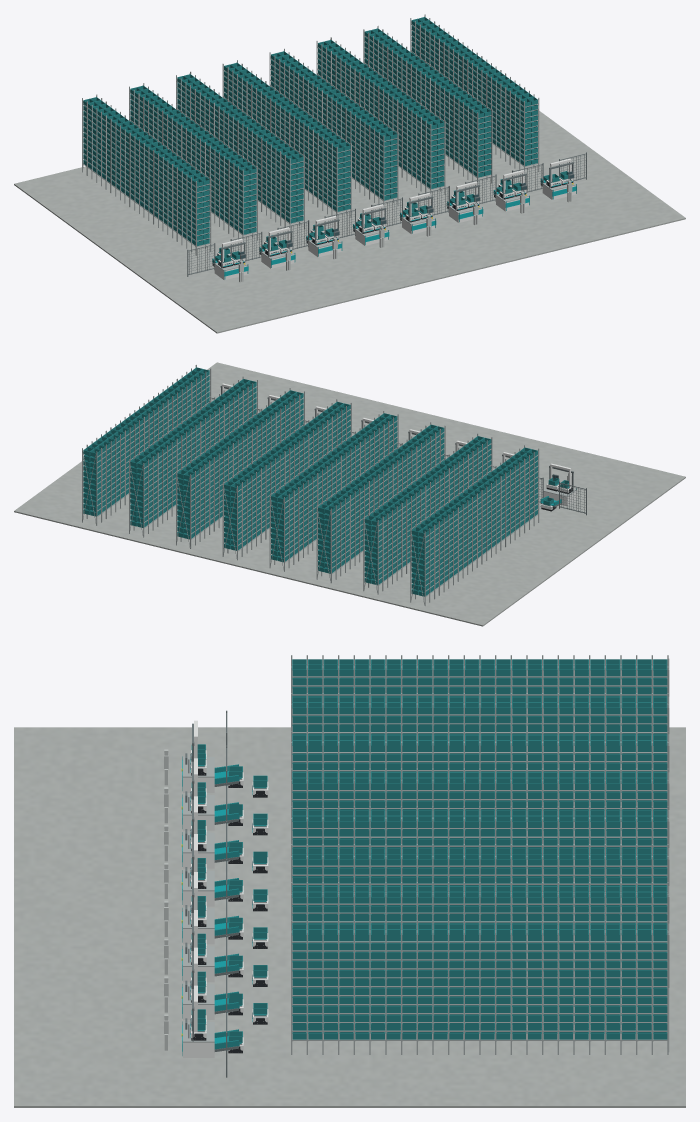
3 renders of one model, top to bottom at view 1: azimuth 30°, elevation 25°; view 2: azimuth 150°, elevation 25°; view 3: azimuth 270°, elevation 25°, orthographic. The views are drawn at different scales.
Visible parts, largest first — view 1: Warehouse floor; view 2: Warehouse floor; view 3: Warehouse floor, Long rack support.021, Long rack support.022, Long rack support.023, Long rack support.047, Long rack support.165, Long rack support.188, Long rack support.189, Long rack support.190, Long rack support.191, Long rack support.166, Long rack support.045 (+19 smaller).
Boxes of the visible parts, left/top/right/bottom form: Warehouse floor: left=14, top=110, right=685, bottom=333; Warehouse floor: left=14, top=362, right=685, bottom=626; Warehouse floor: left=14, top=727, right=685, bottom=1107; Long rack support.021: left=292, top=694, right=667, bottom=695; Long rack support.022: left=292, top=685, right=667, bottom=686; Long rack support.023: left=292, top=676, right=667, bottom=677; Long rack support.047: left=292, top=714, right=667, bottom=715; Long rack support.165: left=292, top=921, right=667, bottom=922; Long rack support.188: left=292, top=968, right=667, bottom=969; Long rack support.189: left=292, top=959, right=667, bottom=960; Long rack support.190: left=292, top=950, right=667, bottom=951; Long rack support.191: left=292, top=941, right=667, bottom=942; Long rack support.166: left=292, top=912, right=667, bottom=913; Long rack support.045: left=292, top=732, right=667, bottom=733.
Size of the model in its own units: 40 by 6.15 by 30.
12 materials, 1 textured.
